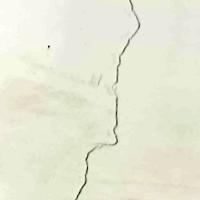crack: (68, 0, 144, 199)
